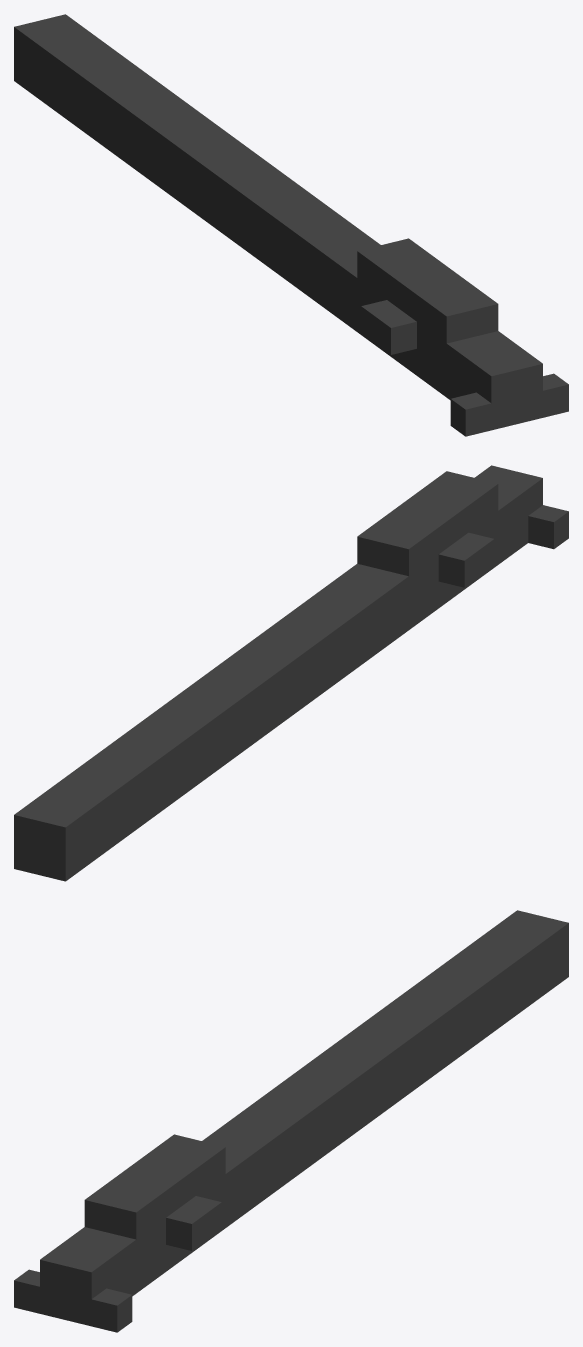
Rendered from ArtilleryCannon.obj.
3 views of the same model, one above another, from view 1: azimuth 30°, elevation 25°; view 2: azimuth 150°, elevation 25°; view 3: azimuth 330°, elevation 25° (orthographic).
Size of the model in its own units: 0.4 by 0.3 by 3.2.
1 material, 1 textured.
